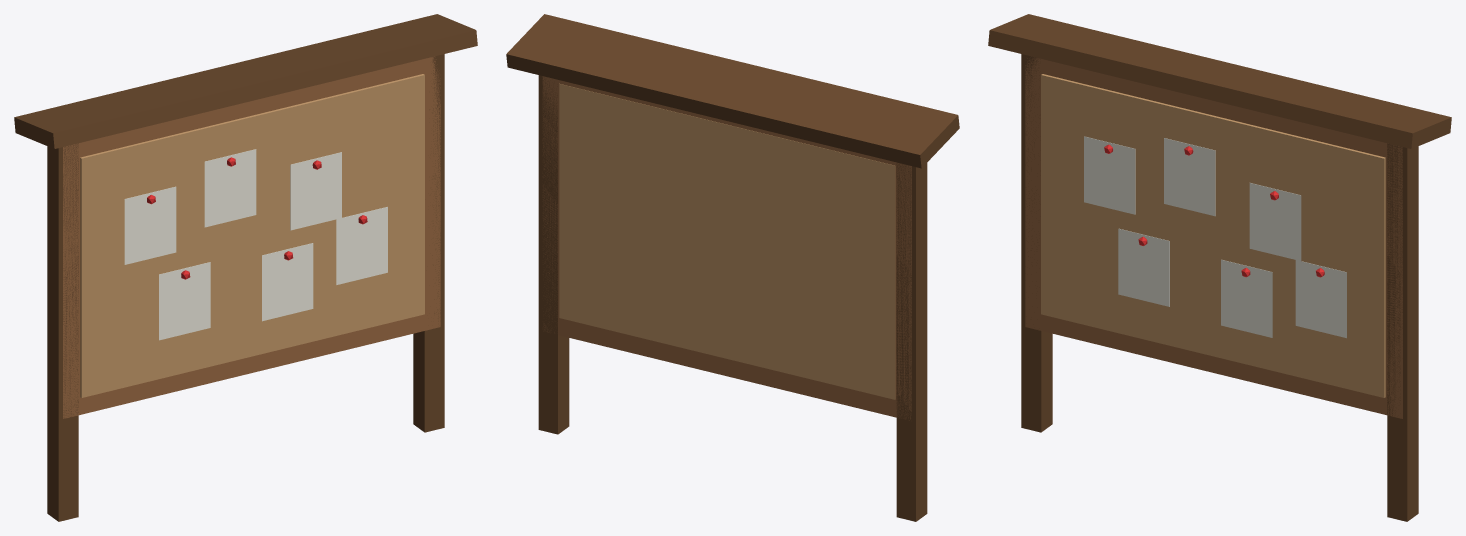
File: OrdersBoard.fbx
3 renders of one model, left to right at view 1: azimuth 30°, elevation 25°; view 2: azimuth 150°, elevation 25°; view 3: azimuth 330°, elevation 25°, orthographic. The views are drawn at different scales.
Parts seen in each view (by area): view 1: Cork, Papers, Frame, Roof, Posts; view 2: Cork, Roof, Posts, Frame; view 3: Cork, Papers, Frame, Roof, Posts.
Boxes of the visible parts, x1,y1,x2,y2 form: Cork: (80,74,424,397); Papers: (124,149,387,340); Frame: (63,56,440,418); Roof: (14,14,477,148); Posts: (47,54,444,521); Cork: (559,83,895,399); Roof: (506,14,959,168); Posts: (538,75,927,521); Frame: (542,76,911,420); Cork: (1041,74,1385,397); Papers: (1084,136,1346,338); Frame: (1025,56,1402,418); Roof: (988,14,1451,148); Posts: (1021,54,1418,521).
Bounding box in the file's own units: 7.4 × 6.73 × 1.23.
